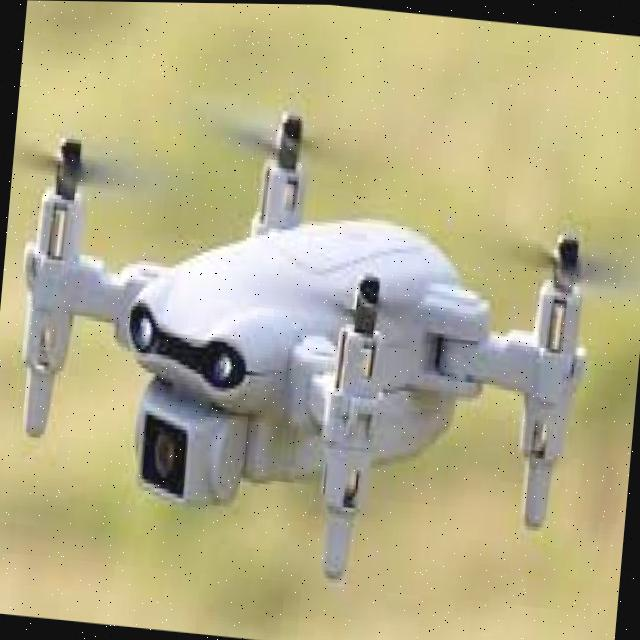drone: (0, 78, 627, 608)
